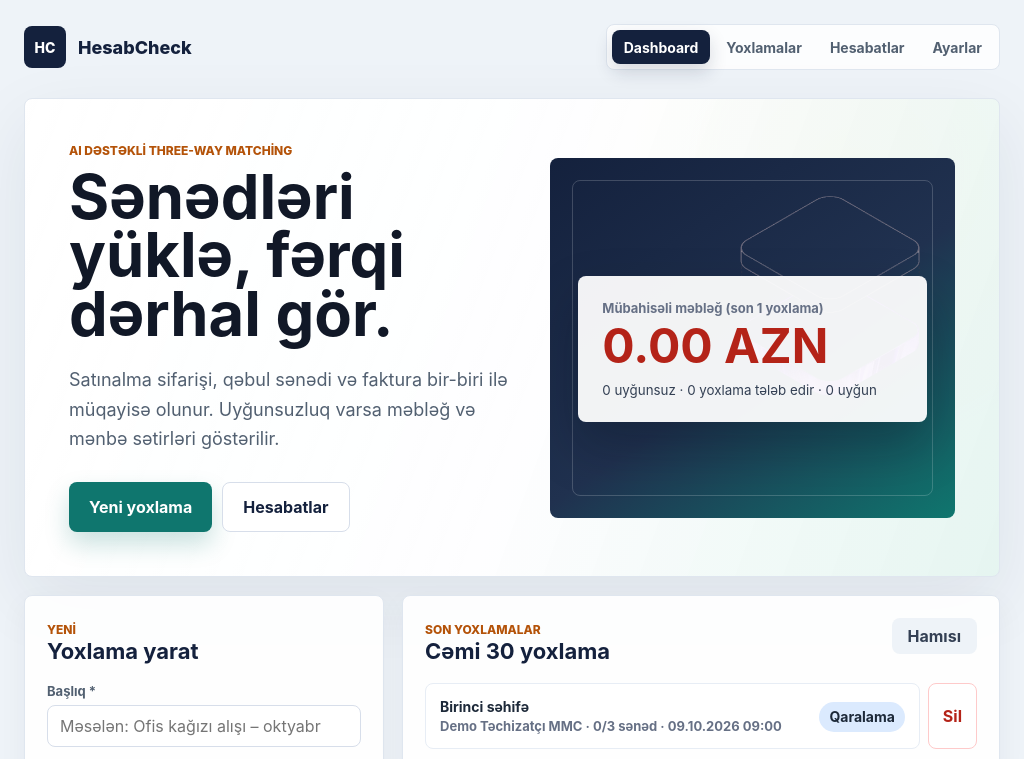
Yoxlamalar › səhifələmə ilə növbəti səhifəni yükləyir
Click the button "Yoxlamalar".
click(764, 47)  # box [714, 30, 814, 64]
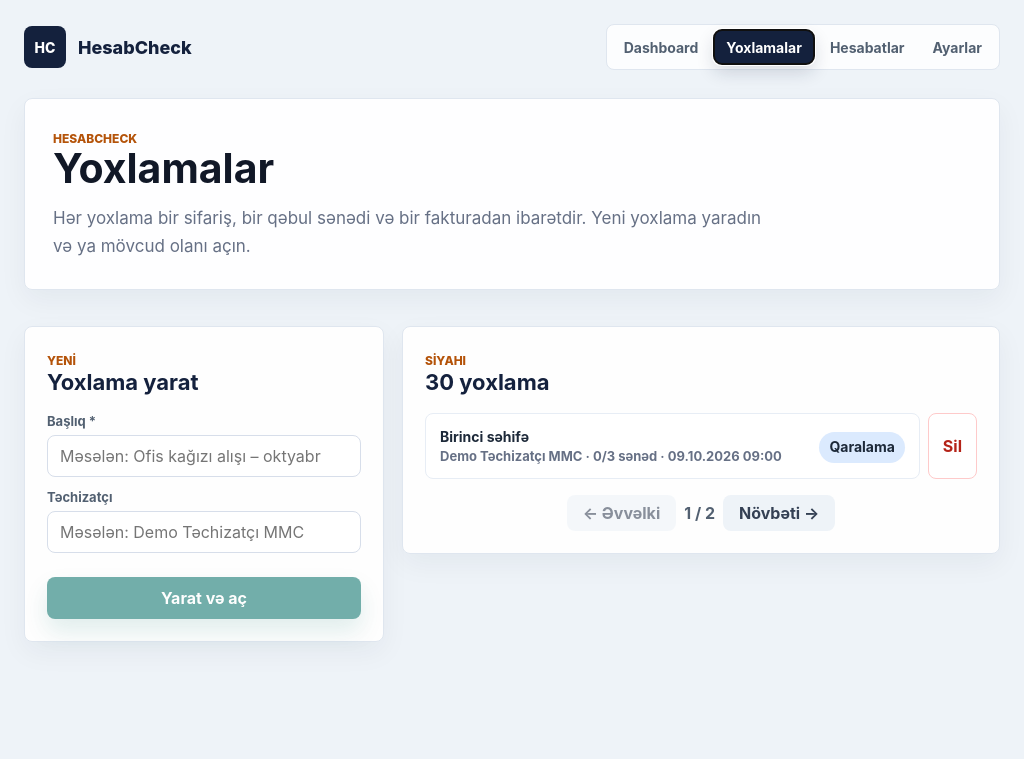
Now the text "1 / 2" is shown, box [684, 503, 715, 523]
Now the button "← Əvvəlki" is disabled, box [567, 495, 676, 531]
Click the button "Növbəti →".
click(779, 513)  # box [723, 495, 835, 531]
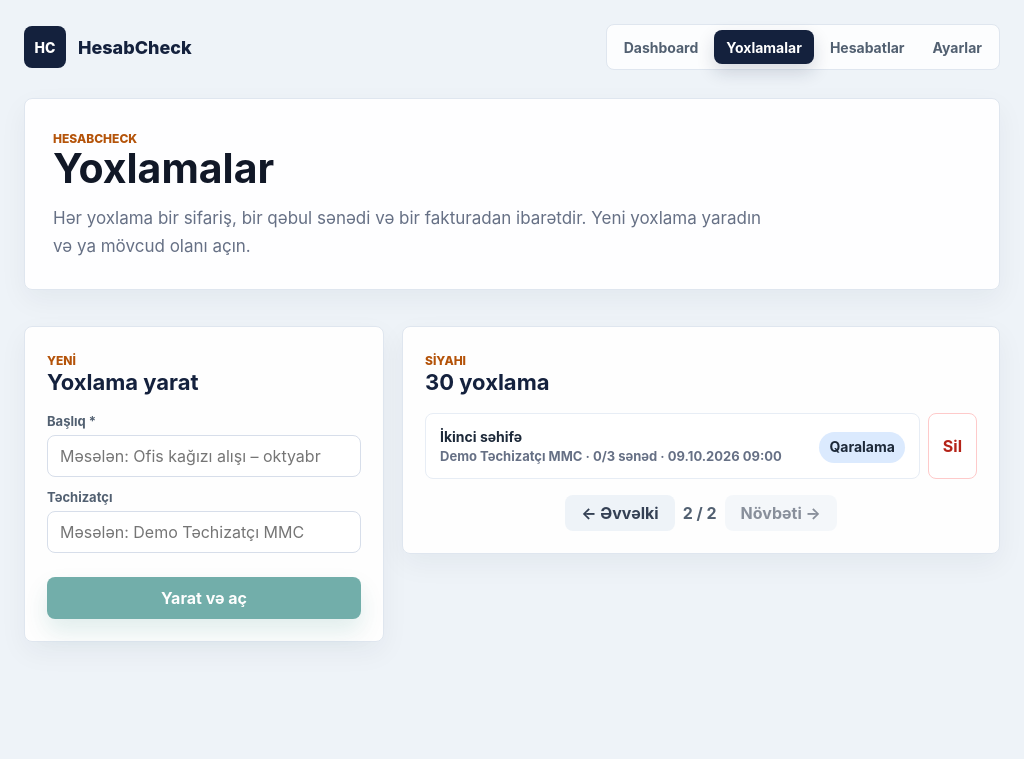
Now the text "İkinci səhifə" is shown, box [440, 428, 522, 445]
